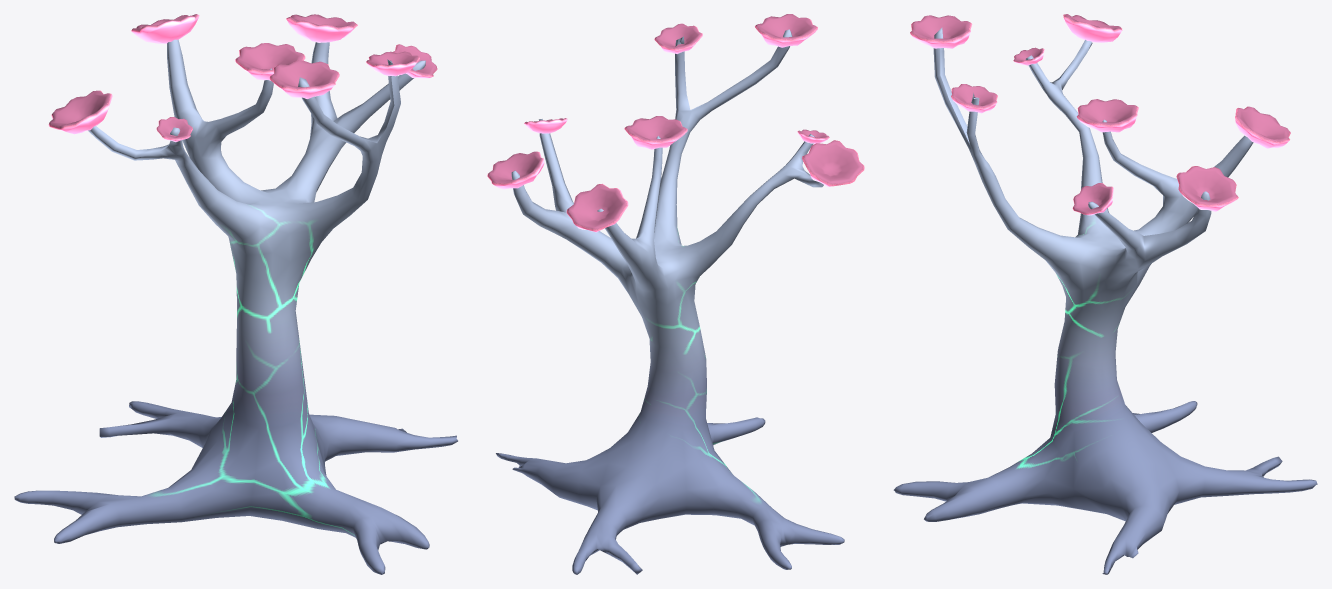
File: SM_Tree_4_Dead.fbx
The picture shows the model from 3 angles, left to right: view 1: azimuth 30°, elevation 25°; view 2: azimuth 150°, elevation 25°; view 3: azimuth 270°, elevation 25°; orthographic projection. The views are drawn at different scales.
Visible parts, largest first — view 1: Arbres_1, Feuille.005_LP, Feuille.004_LP, _LP, Feuille.001_LP, Feuille.002_LP, Feuille.006_LP, Feuille.003_LP, Feuille_LP; view 2: Arbres_1, Feuille.004_LP, Feuille.002_LP, _LP, Feuille.001_LP, Feuille.005_LP, Feuille.006_LP; view 3: Arbres_1, Feuille.001_LP, _LP, Feuille.005_LP, Feuille.002_LP, Feuille.004_LP, Feuille_LP, Feuille.006_LP.
Boxes of the visible parts, box(x1,y1,x2,y2) form: Arbres_1: box(14, 39, 457, 574); Feuille.005_LP: box(269, 60, 339, 98); Feuille.004_LP: box(48, 90, 112, 134); _LP: box(235, 43, 305, 80); Feuille.001_LP: box(286, 14, 357, 42); Feuille.002_LP: box(131, 14, 199, 43); Feuille.006_LP: box(366, 51, 419, 76); Feuille.003_LP: box(156, 117, 192, 142); Feuille_LP: box(393, 44, 437, 78); Arbres_1: box(496, 29, 844, 574); Feuille.004_LP: box(802, 140, 864, 186); Feuille.002_LP: box(566, 183, 628, 232); _LP: box(624, 116, 687, 149); Feuille.001_LP: box(487, 151, 544, 189); Feuille.005_LP: box(755, 14, 817, 47); Feuille.006_LP: box(654, 23, 702, 53); Arbres_1: box(893, 27, 1317, 574); Feuille.001_LP: box(1176, 166, 1238, 211); _LP: box(1076, 99, 1138, 132); Feuille.005_LP: box(910, 15, 972, 48); Feuille.002_LP: box(1235, 106, 1290, 148); Feuille.004_LP: box(1063, 14, 1122, 42); Feuille_LP: box(1072, 183, 1113, 215); Feuille.006_LP: box(951, 84, 997, 113).
Bounding box in the file's own units: 64.85 × 75.73 × 64.46.
